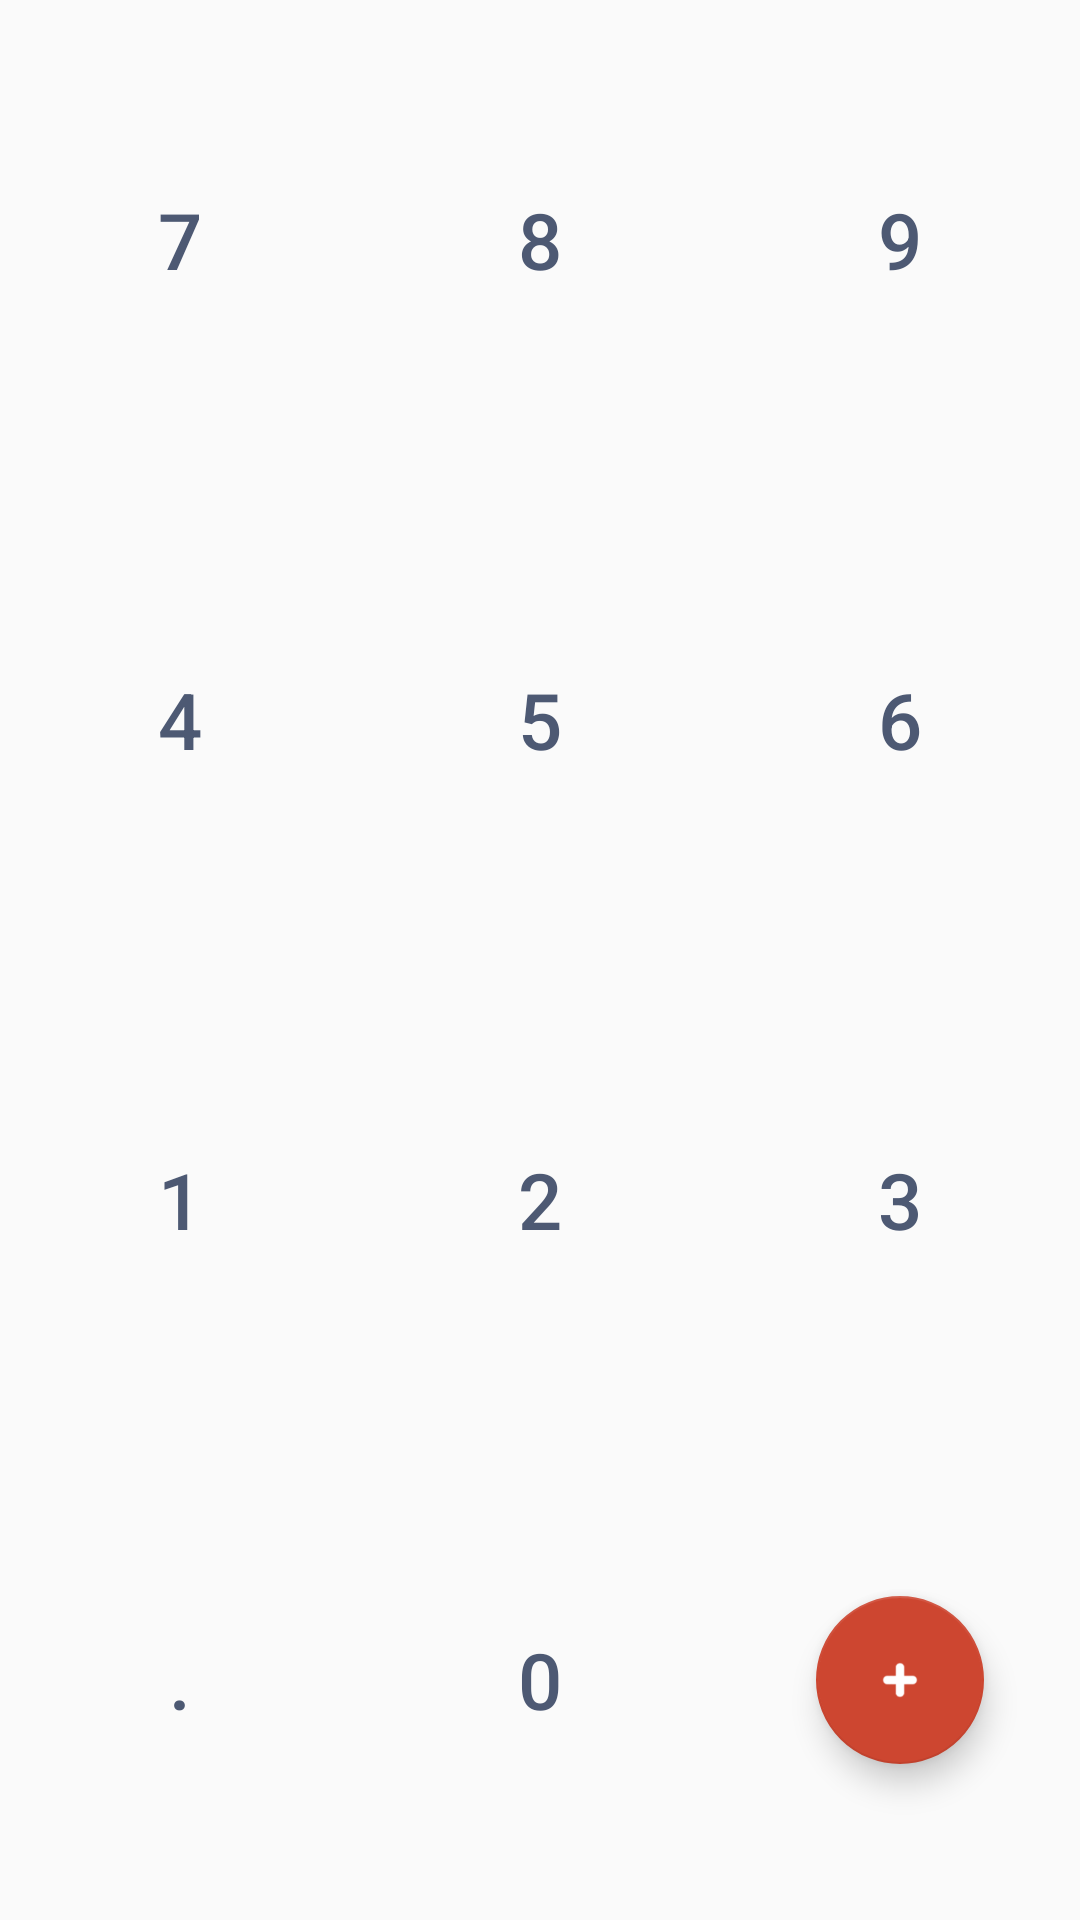

Screen size 1080px x 1920px. Icon name, then its box in pixels as (x1, y1, x2, y2):
addi: (816, 1596, 984, 1764)
